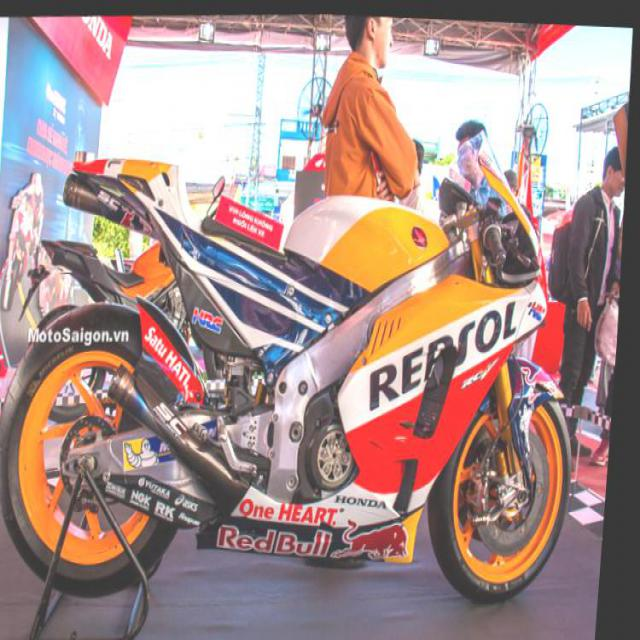HRC RCV 213: (0, 98, 604, 625)
